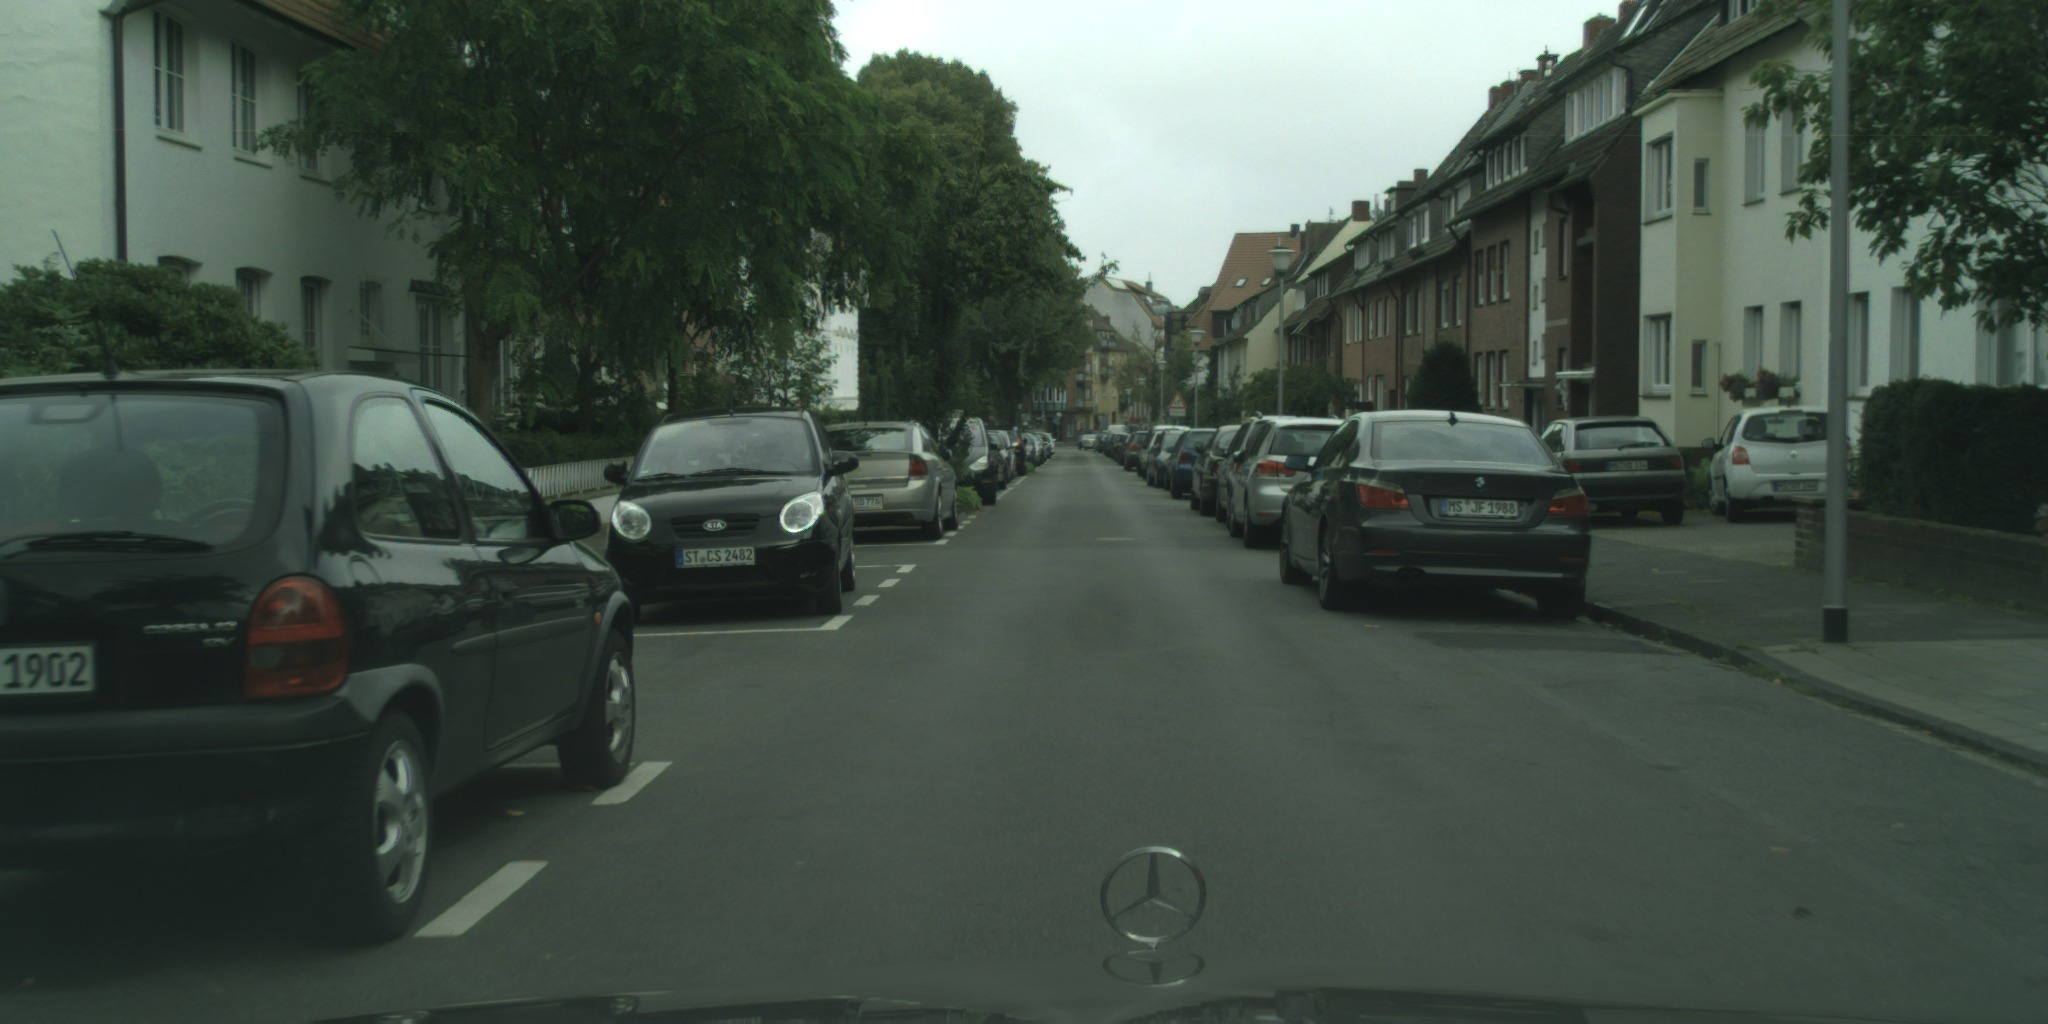car: (0, 370, 637, 951), (1279, 409, 1591, 622), (602, 406, 859, 627), (1701, 406, 1853, 522), (1228, 415, 1358, 550), (1535, 415, 1688, 526), (814, 422, 957, 539), (1216, 411, 1306, 528), (931, 417, 998, 505), (1190, 424, 1245, 517), (1164, 428, 1221, 500), (1136, 424, 1192, 481), (1145, 430, 1189, 488), (984, 426, 1028, 475), (984, 430, 1019, 481), (982, 431, 1012, 490), (1117, 431, 1152, 472), (1104, 434, 1135, 462), (1014, 432, 1036, 469), (1027, 432, 1048, 465), (1025, 434, 1044, 468), (1104, 424, 1128, 445), (1036, 432, 1051, 462), (1092, 434, 1112, 453), (1076, 434, 1098, 451), (1041, 434, 1055, 455)
